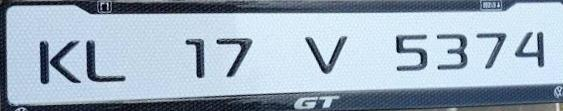1: (182, 26, 213, 85)
3: (433, 26, 473, 77)
4: (511, 23, 550, 72)
5: (390, 22, 433, 80)
7: (214, 30, 261, 81), (474, 30, 510, 75)
K: (36, 33, 83, 90)
L: (82, 33, 131, 89)
V: (299, 30, 350, 79)
